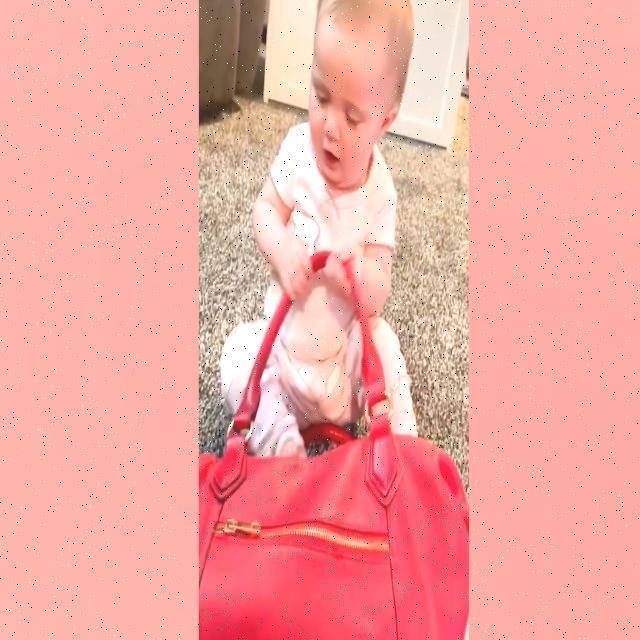child: (219, 0, 419, 462)
